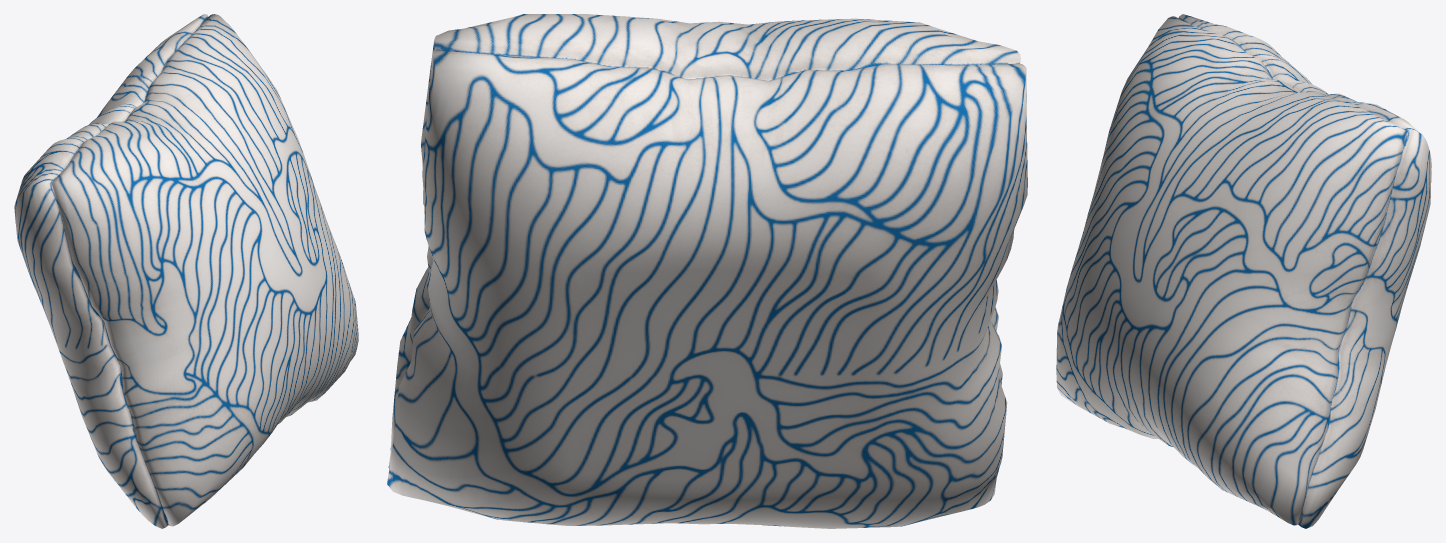
Rendered from simple_waves_cushionpillow.glb.
3 views of the same model, side by side, from view 1: azimuth 30°, elevation 25°; view 2: azimuth 150°, elevation 25°; view 3: azimuth 270°, elevation 25° (orthographic). The views are drawn at different scales.
Parts seen in each view (by area): view 1: Cushion Retopo; view 2: Cushion Retopo; view 3: Cushion Retopo.
Part boxes in pixels (x1=…): Cushion Retopo: x1=14, y1=14, x2=358, y2=528; Cushion Retopo: x1=387, y1=14, x2=1027, y2=528; Cushion Retopo: x1=1056, y1=14, x2=1431, y2=528.
Bounding box in the file's own units: 631 × 590 × 527.
1 material, 1 textured.
